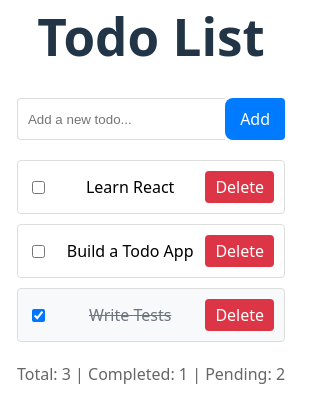
Scenario: TodoList › deletes a todo when delete button is clicked
The image size is (320, 401).
Click the button "Delete" next to "Learn React" at (240, 188), box [205, 172, 274, 204]
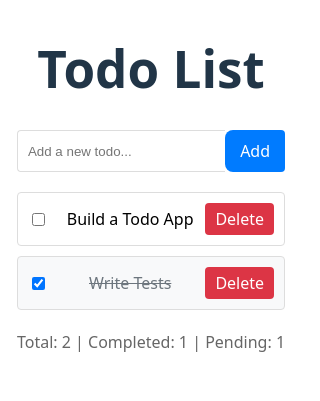
Expected: the text "Total: 2 | Completed: 1 | Pending: 1" is shown, [17, 330, 285, 354]
Expected: the text "Learn React" is gone
